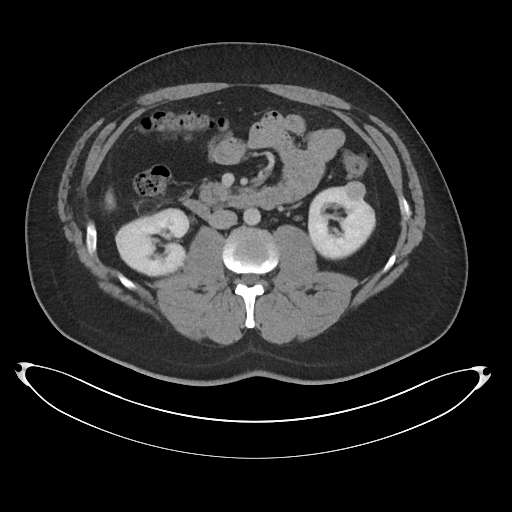Lesion: (343, 178, 369, 204)
